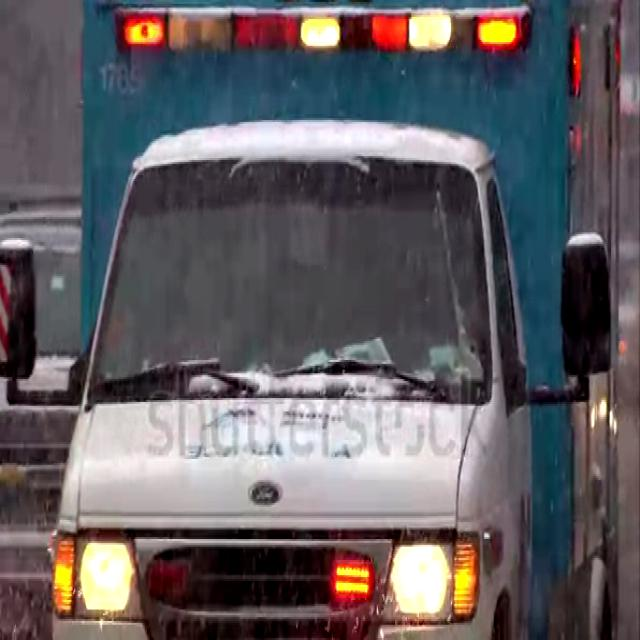ambulance: (64, 6, 618, 634)
